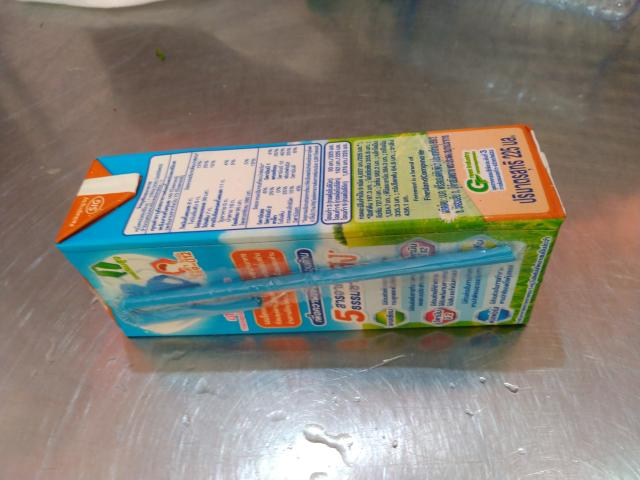drink_box: (57, 114, 594, 371)
